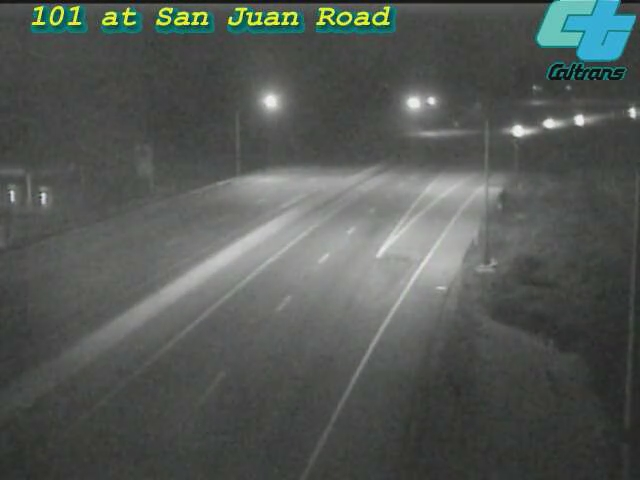vehicle: (559, 94, 609, 144), (527, 98, 577, 148), (490, 107, 540, 157), (608, 87, 640, 137)
